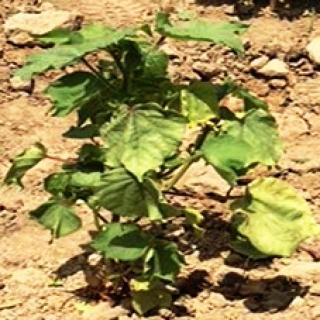wilt: (175, 91, 235, 123)
